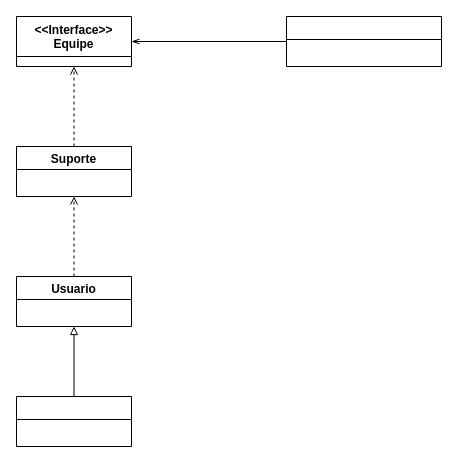
Image size: 458x463. Some labels were removed from this diagram. The shapes that lost their labels are listed below. From the top down, each one's centre as x and y in pixels, then its label:
(364,41): EquipeDesenvolvedores
(74,421): Jogador
